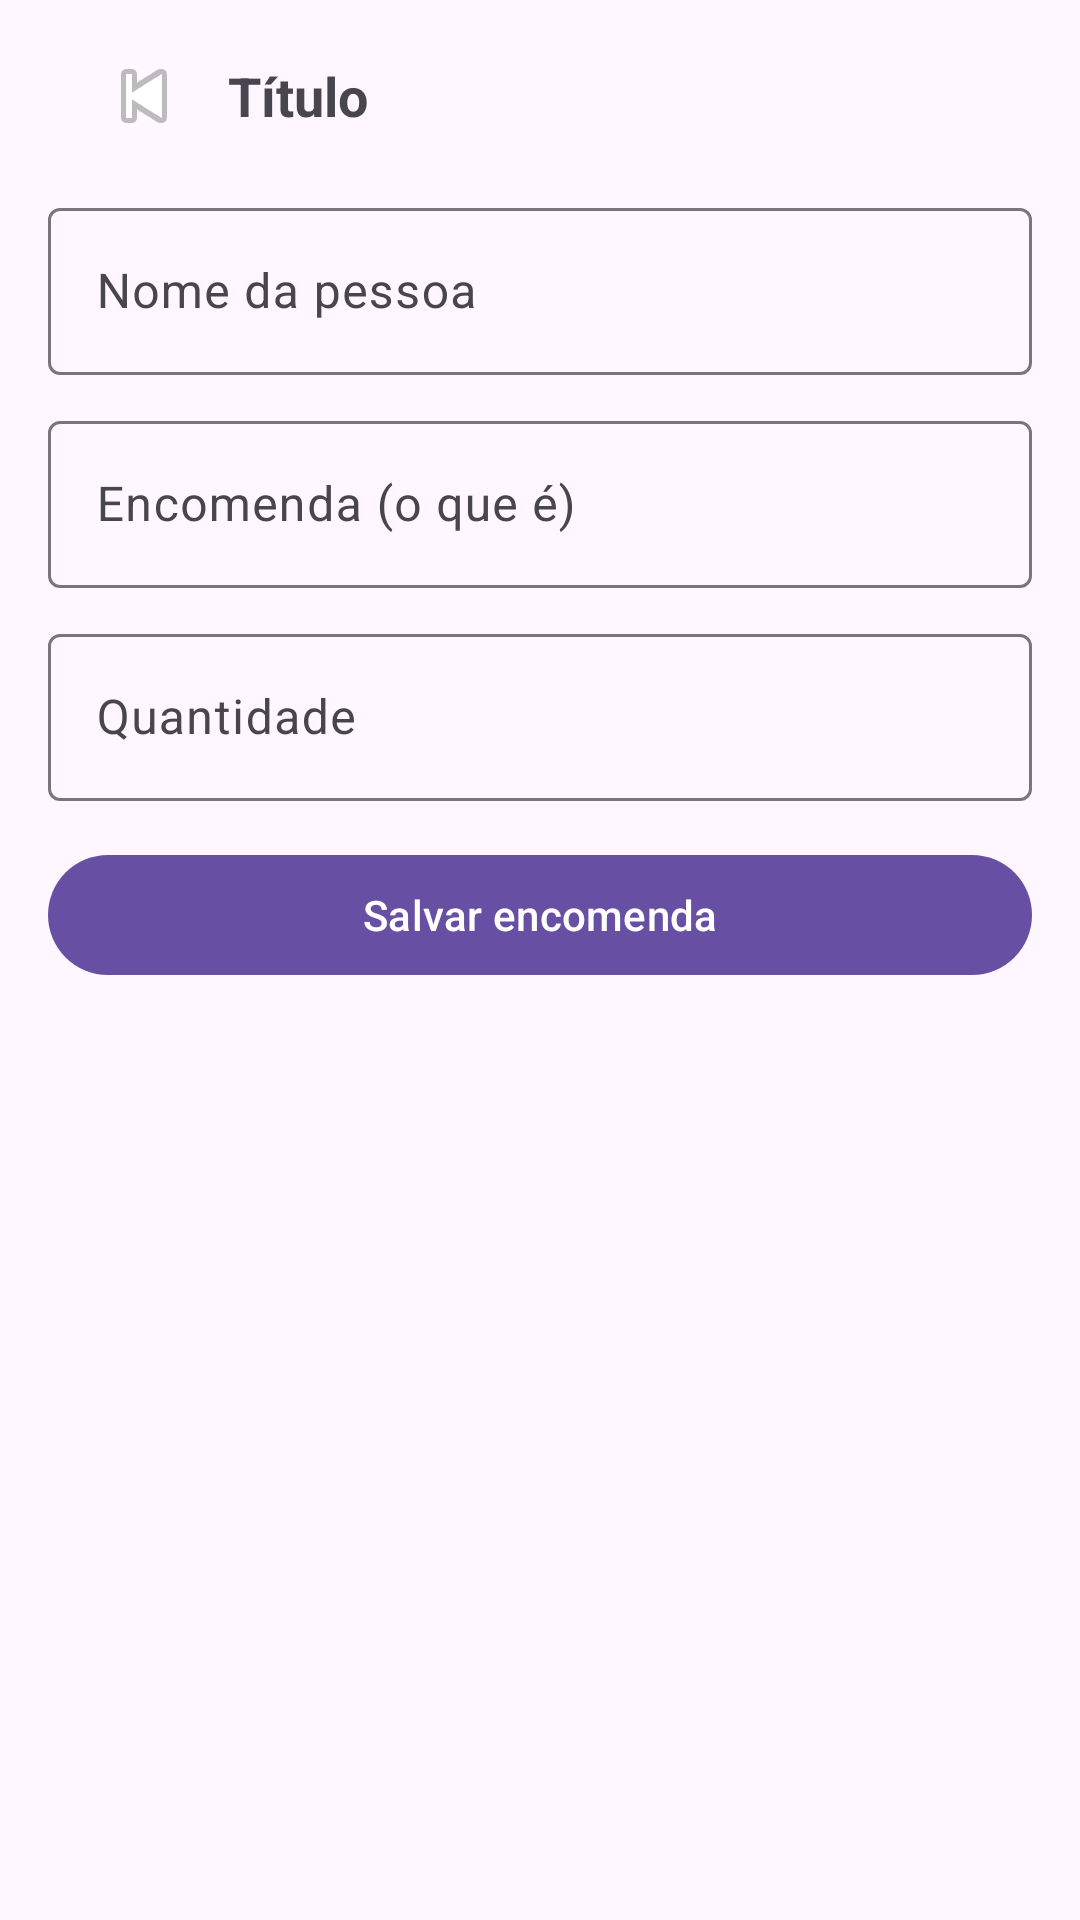

Icon click points for this 1080×1920 phone screenshot, format [x,y]:
Voltar: [144,96]
